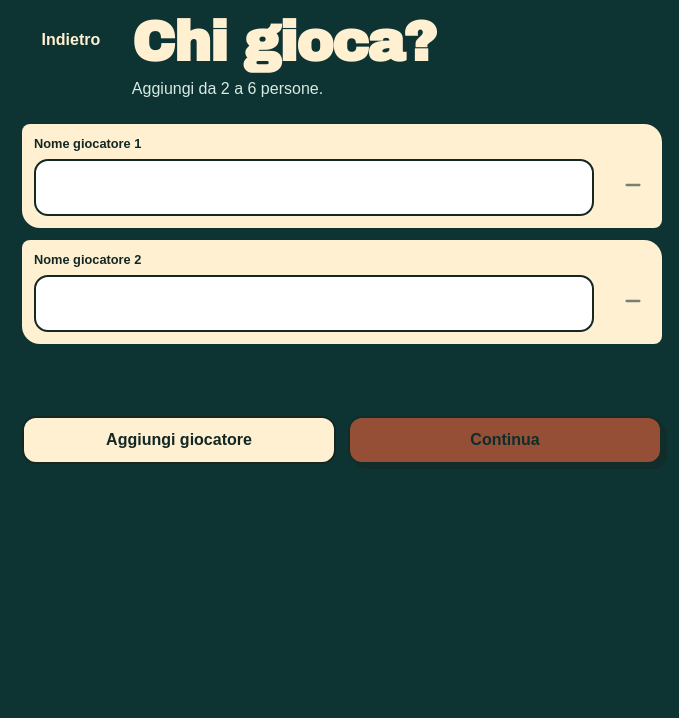
Test case: PlayersScreen › adds and removes players only within the 2-6 range
Click the button "Aggiungi giocatore" at (179, 440), box [22,416,336,464]
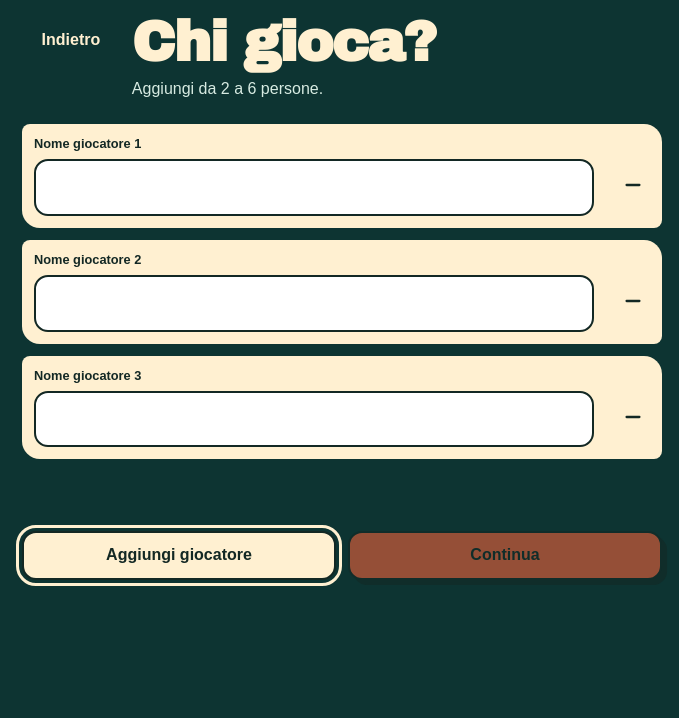
Click the button "Aggiungi giocatore" at (179, 556), box [22,531,336,580]
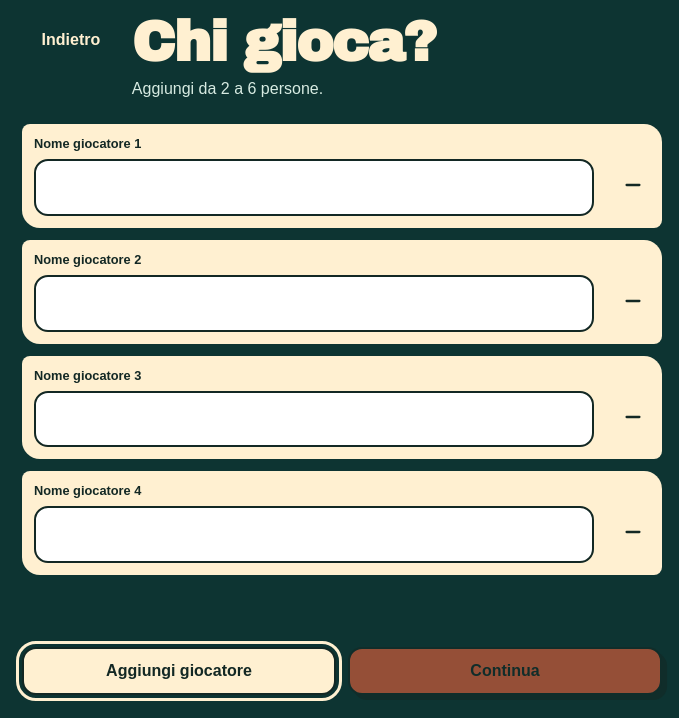
Click the button "Aggiungi giocatore" at (179, 671), box [22,647,336,695]
(page scrolled)
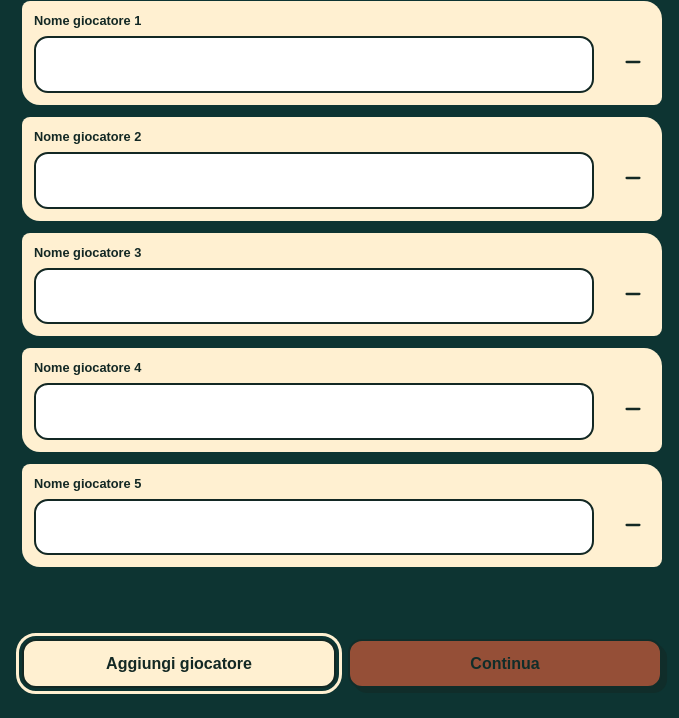
Click the button "Aggiungi giocatore" at (179, 664), box [22,639,336,688]
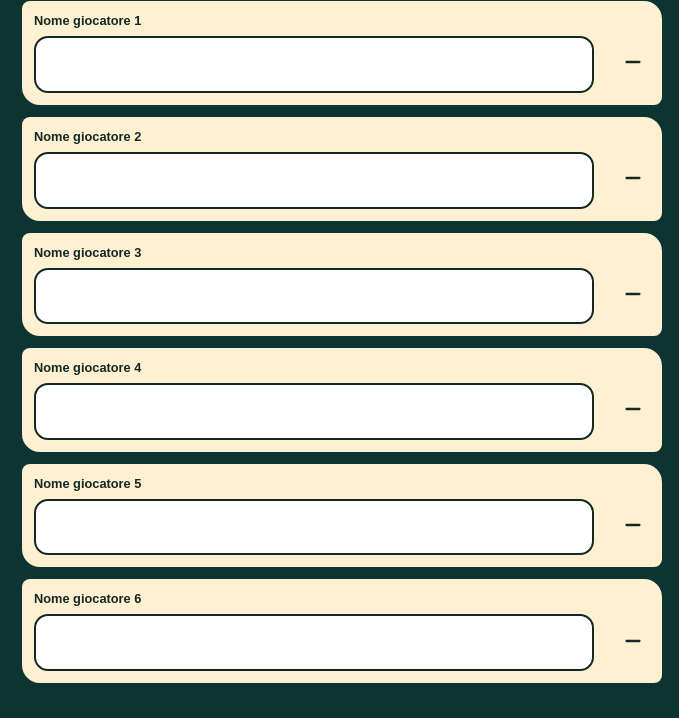
Expected: the number of fields is 6, [34,36,594,93]; [34,152,594,209]; [34,268,594,324]; [34,383,594,440]; [34,499,594,555]; [34,614,594,671]
Click the 6th button named "Rimuovi giocatore" at (626, 643), box [602,614,650,671]
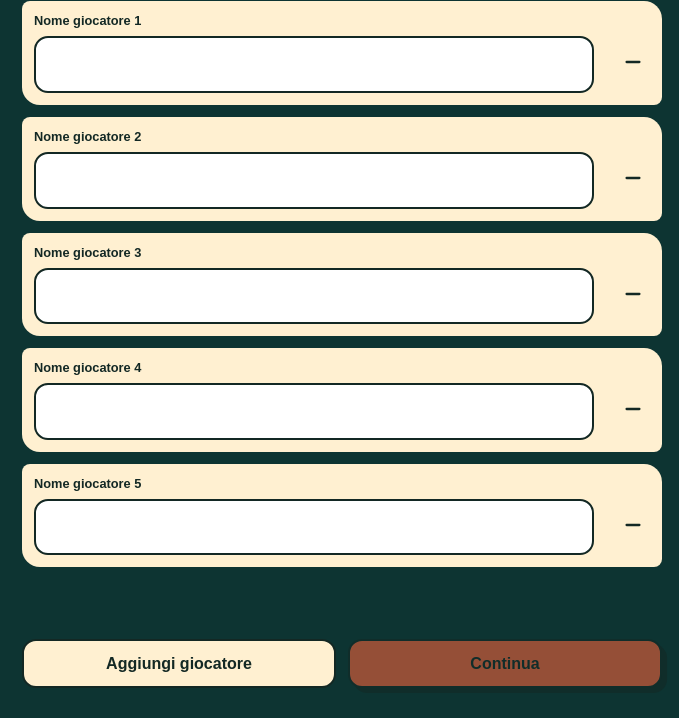
Expected: the number of fields is 5, [34,36,594,93]; [34,152,594,209]; [34,268,594,324]; [34,383,594,440]; [34,499,594,555]
